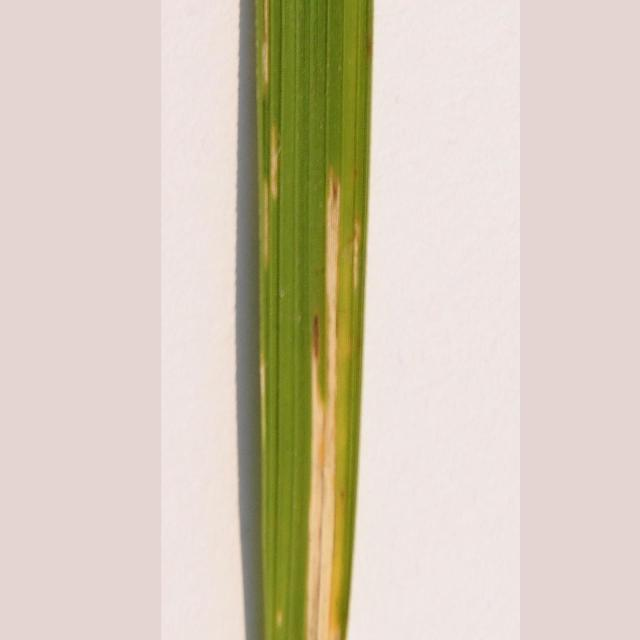Bacterial leaf blight: (214, 0, 444, 640)
